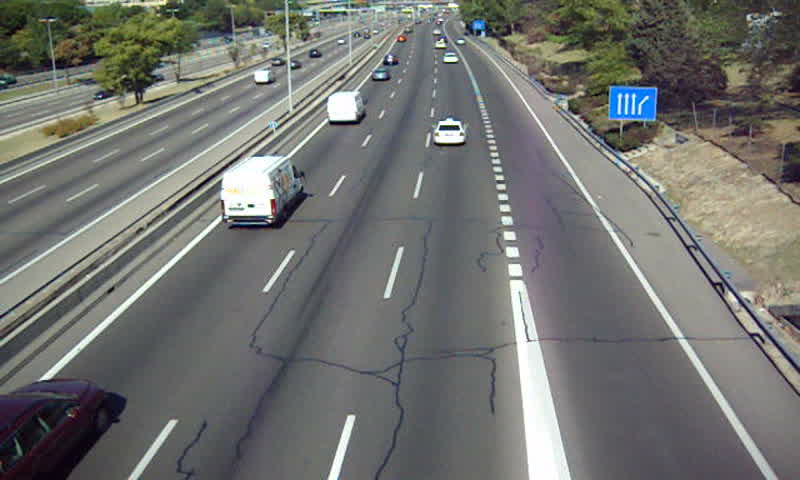car: (1, 378, 105, 480), (433, 119, 466, 145), (370, 69, 390, 83), (442, 52, 460, 66), (382, 52, 398, 67)
van: (221, 155, 306, 227), (326, 92, 364, 124)
